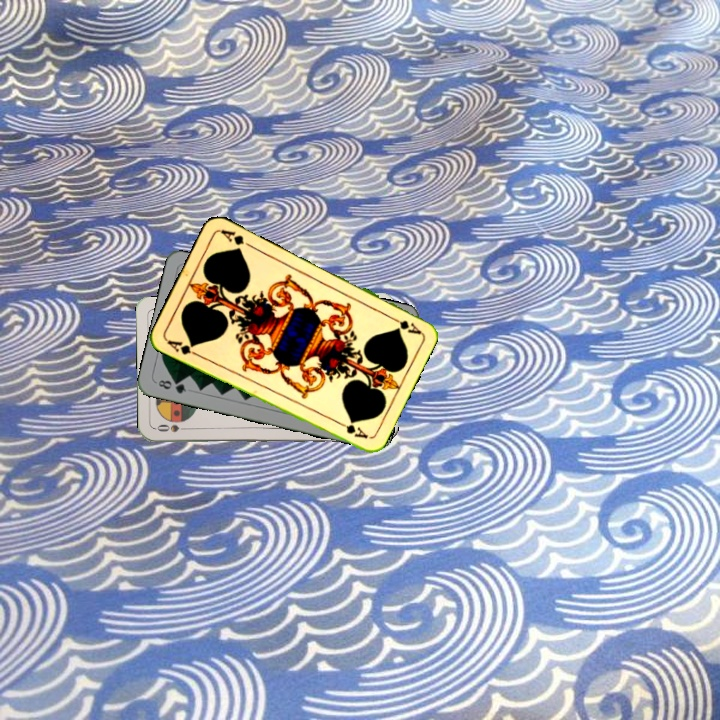G8: (154, 376, 189, 396)
GA: (385, 312, 423, 337), (163, 335, 201, 358)
SO: (153, 420, 193, 435)
